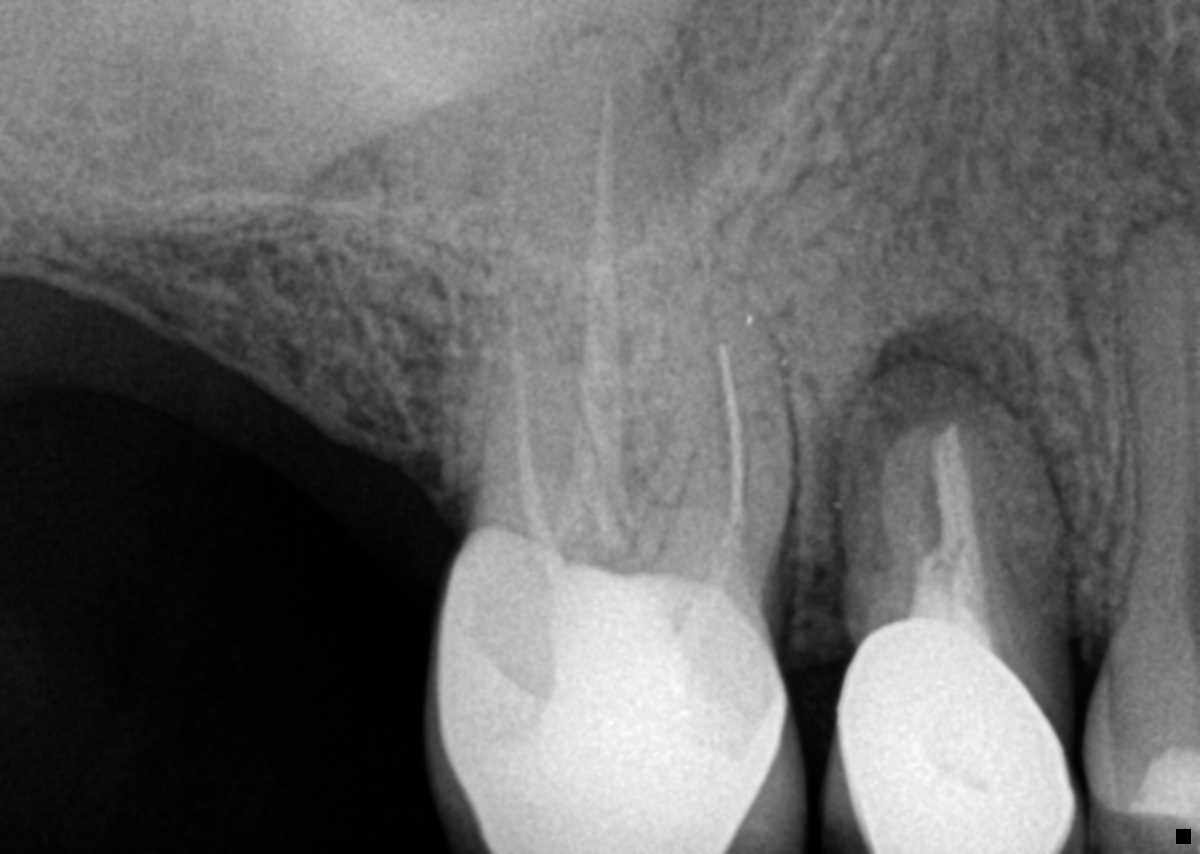Apical Lesion: (793, 309, 1103, 604)
Distal Root: (472, 290, 629, 553)
Main Root: (840, 353, 1075, 644), (1113, 213, 1200, 607)
Mesial Root: (639, 229, 802, 613)
Palatal Root: (475, 25, 741, 578)
Root Canal Filling: (550, 89, 637, 557), (907, 422, 986, 638), (513, 302, 568, 576)
